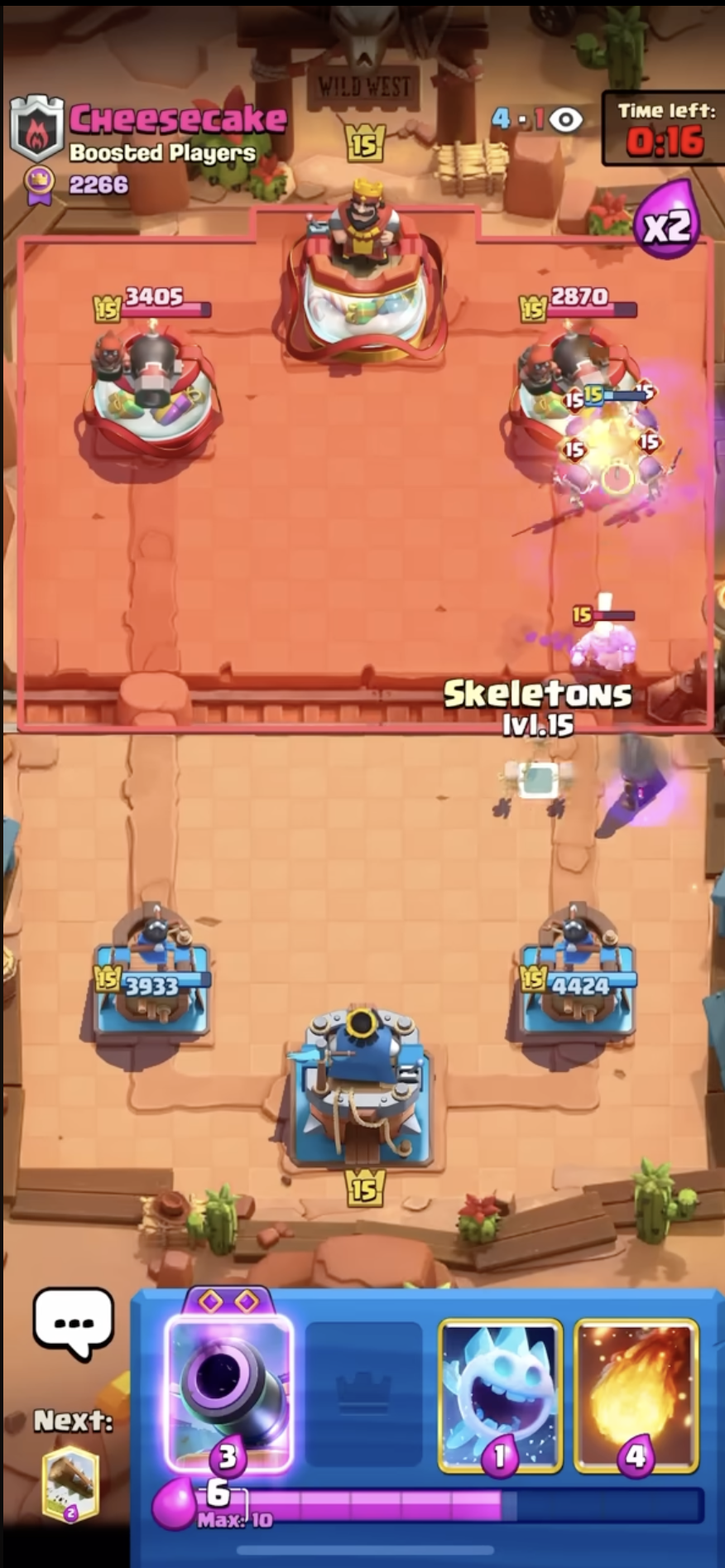evo_musketeer: (612, 712, 680, 825)
